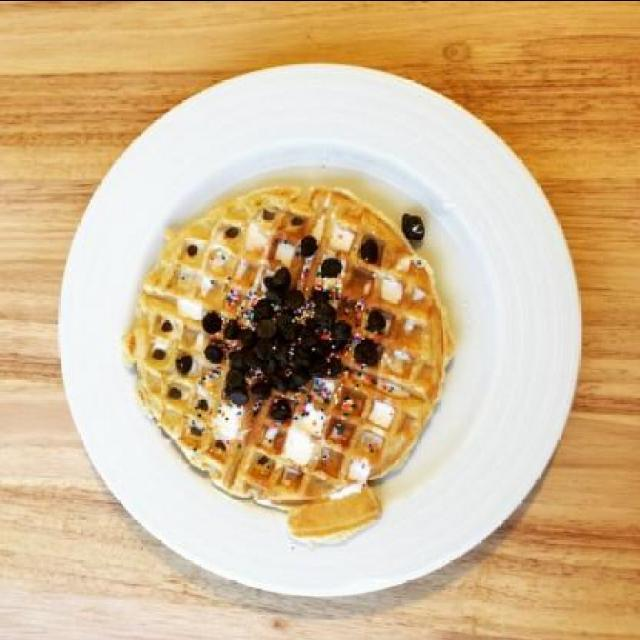Waffle: (120, 188, 456, 546)
